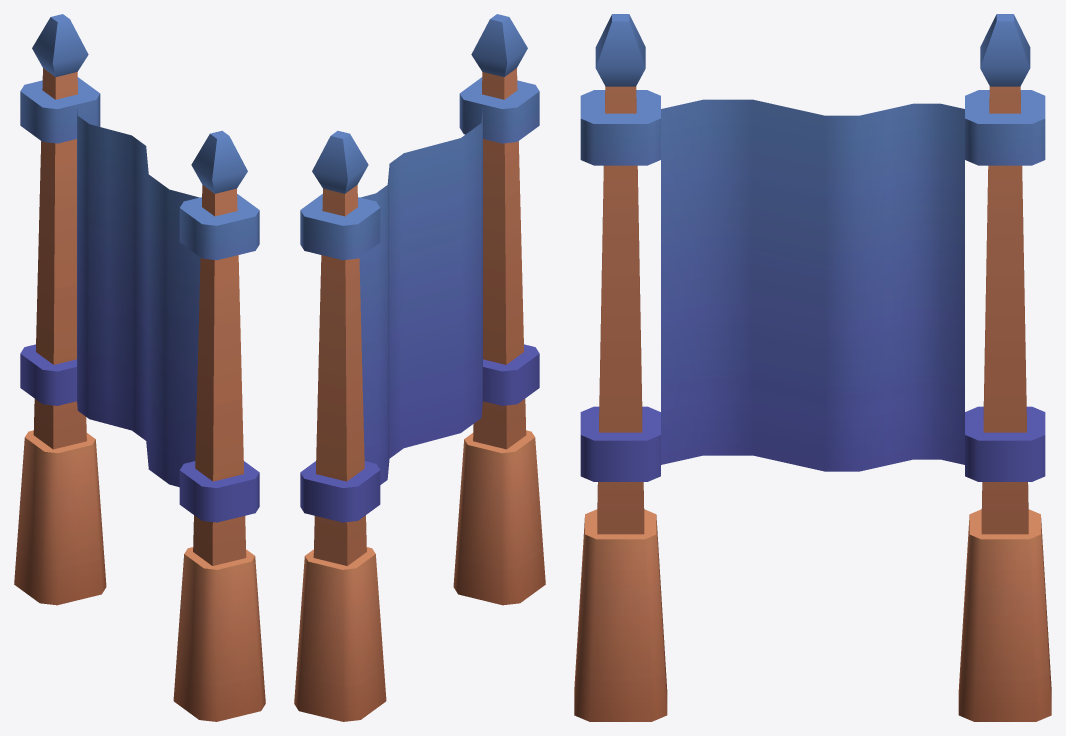
Rendered from kenney-castle-flag-wide.glb.
3 renders of one model, left to right at view 1: azimuth 30°, elevation 25°; view 2: azimuth 150°, elevation 25°; view 3: azimuth 270°, elevation 25°, orthographic. The views are drawn at different scales.
Visible parts, largest first — view 1: flag-wide; view 2: flag-wide; view 3: flag-wide.
Boxes of the visible parts, <box> form: flag-wide: <box>14,14,265,721</box>; flag-wide: <box>294,14,545,721</box>; flag-wide: <box>574,14,1051,721</box>.
Size of the model in its own units: 0.1064 by 0.8656 by 0.5469.
1 material, 1 textured.
